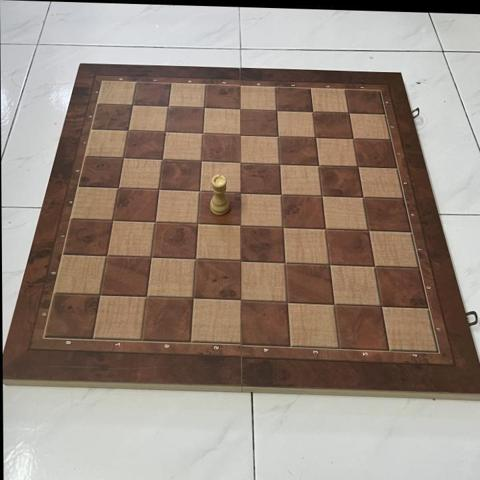xcorner: (269, 103, 286, 120), (272, 156, 289, 173), (152, 181, 169, 198), (318, 220, 335, 237), (189, 251, 206, 268), (125, 97, 142, 113), (161, 99, 178, 115), (198, 100, 214, 117), (305, 105, 322, 121), (341, 106, 357, 123), (121, 122, 137, 139), (196, 126, 213, 142), (308, 130, 324, 147), (345, 132, 362, 148), (116, 150, 133, 166), (311, 158, 328, 174), (350, 159, 366, 176), (111, 180, 128, 196), (274, 186, 291, 202), (355, 189, 371, 206), (106, 212, 122, 229), (191, 216, 208, 232), (360, 222, 377, 238), (278, 254, 294, 271), (322, 256, 339, 272), (366, 258, 383, 274), (93, 287, 110, 303), (140, 289, 157, 305), (187, 290, 203, 307), (280, 294, 297, 310), (327, 295, 343, 312), (234, 102, 250, 118), (159, 124, 175, 140), (234, 127, 250, 143), (271, 129, 287, 145), (156, 152, 172, 168), (195, 153, 211, 169), (234, 155, 250, 171), (193, 183, 209, 199), (234, 185, 250, 201), (315, 188, 331, 204), (149, 214, 165, 230), (234, 217, 250, 233), (276, 219, 292, 235), (100, 248, 116, 264), (145, 250, 161, 266), (234, 253, 250, 269), (234, 292, 250, 308), (373, 297, 389, 313)
